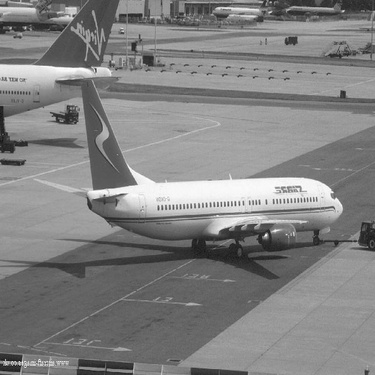airplane: (52, 64, 354, 258), (6, 6, 125, 134), (1, 7, 102, 36), (205, 1, 274, 32), (273, 3, 352, 25)
